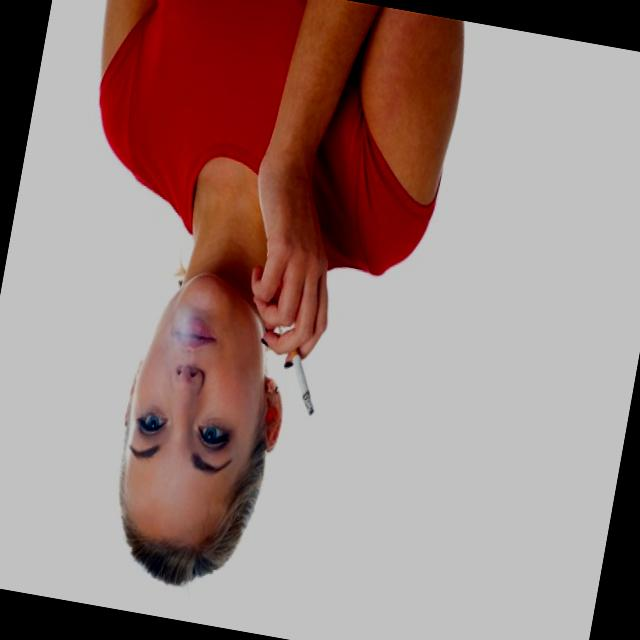cigarette: (282, 354, 324, 420)
